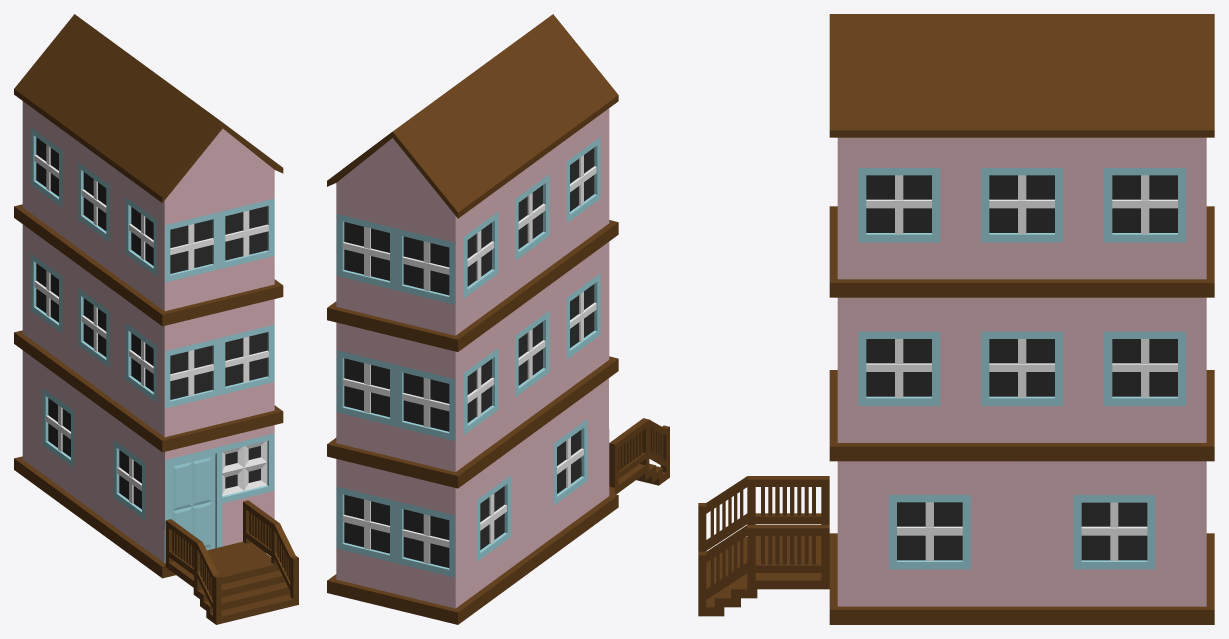
The model's file is herenhuis2.fbx.
3 renders of one model, left to right at view 1: azimuth 30°, elevation 25°; view 2: azimuth 150°, elevation 25°; view 3: azimuth 270°, elevation 25°, orthographic. The views are drawn at different scales.
Visible parts, largest first — view 1: building_001; view 2: building_001; view 3: building_001.
Boxes of the visible parts, box(x1,y1,x2,y2) form: building_001: box(14, 14, 298, 624); building_001: box(327, 14, 669, 624); building_001: box(698, 14, 1214, 624).
Size of the model in its own units: 661 by 2358 by 1883.
